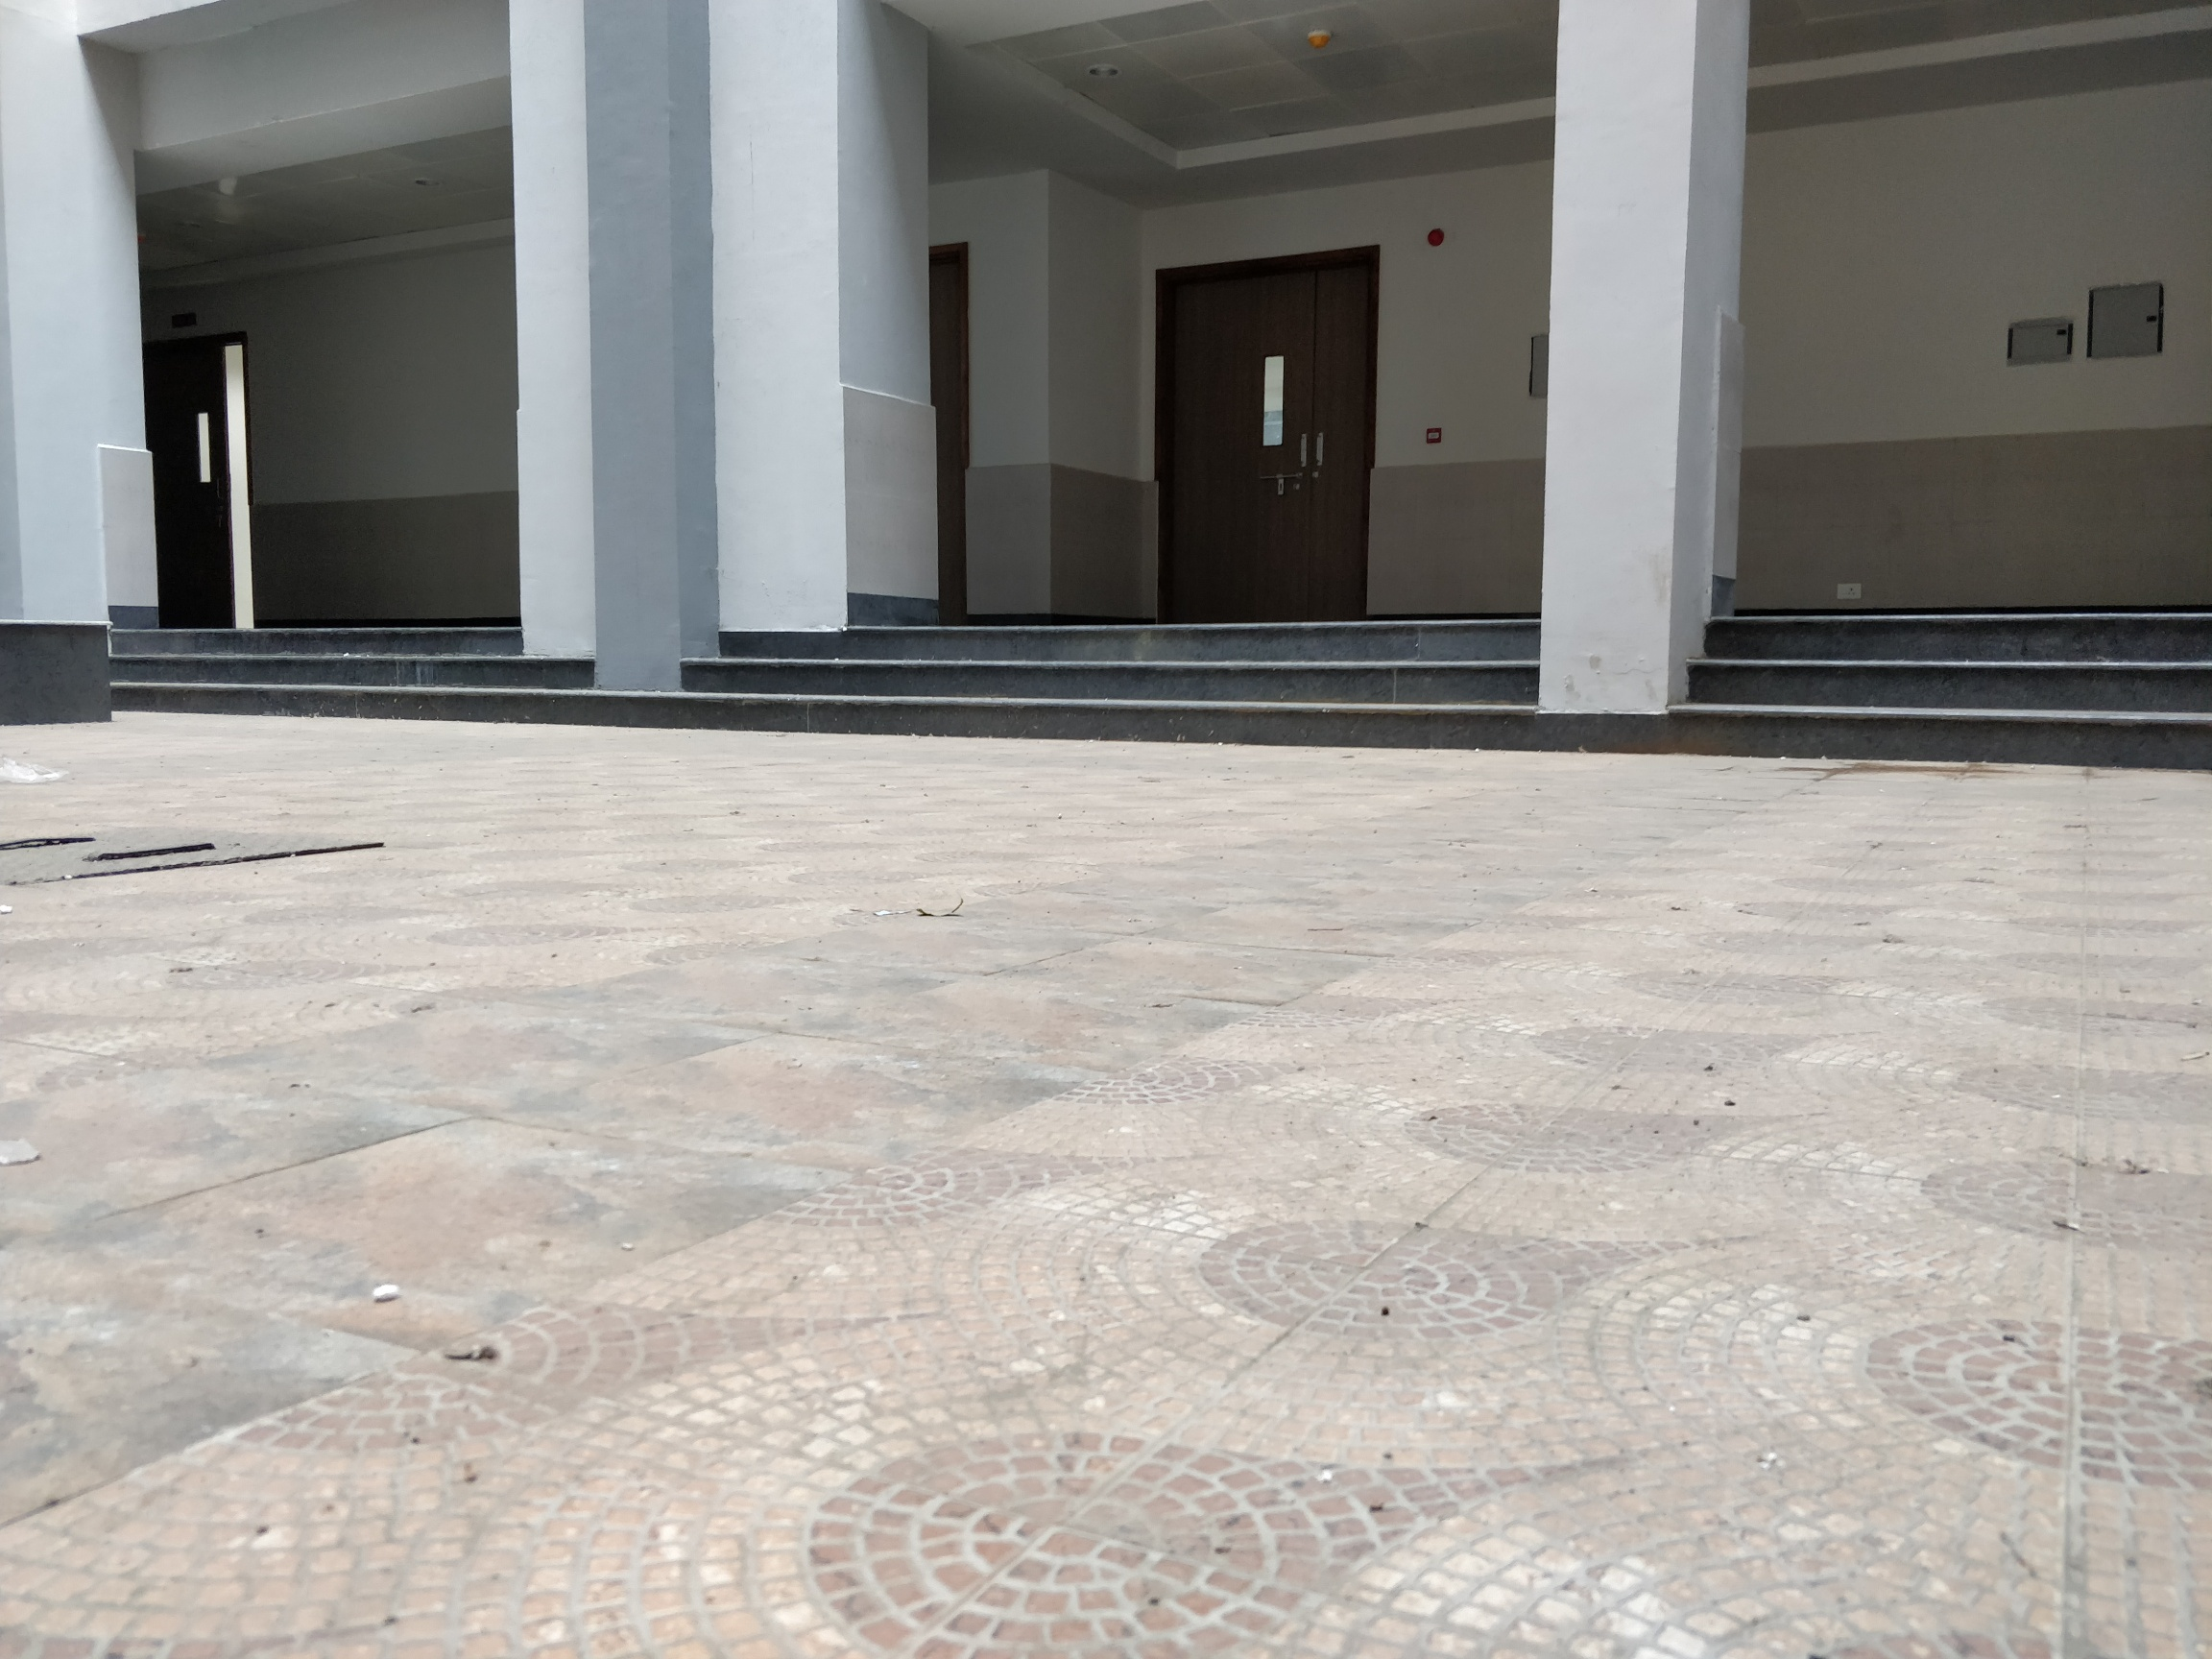stairs_up: (660, 617, 1541, 732), (1663, 610, 2195, 753), (110, 626, 526, 709)
